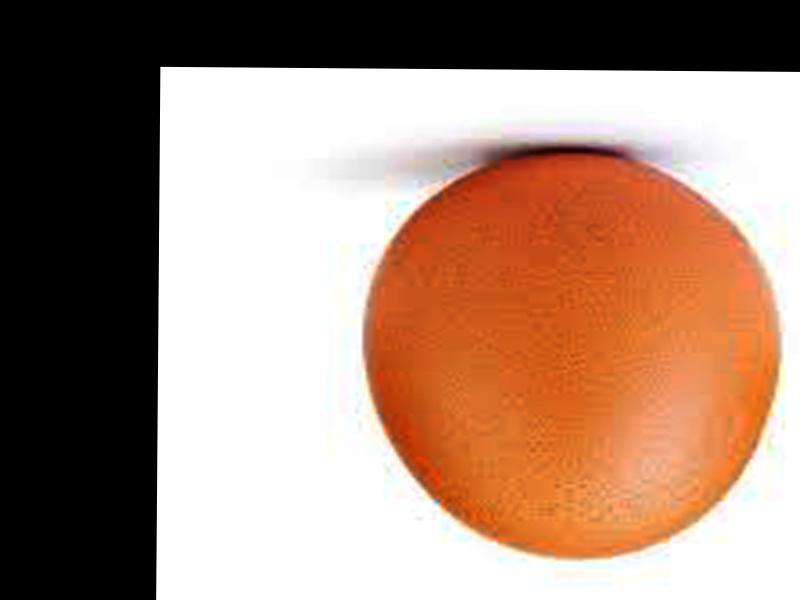Eggs: (364, 152, 779, 554)
